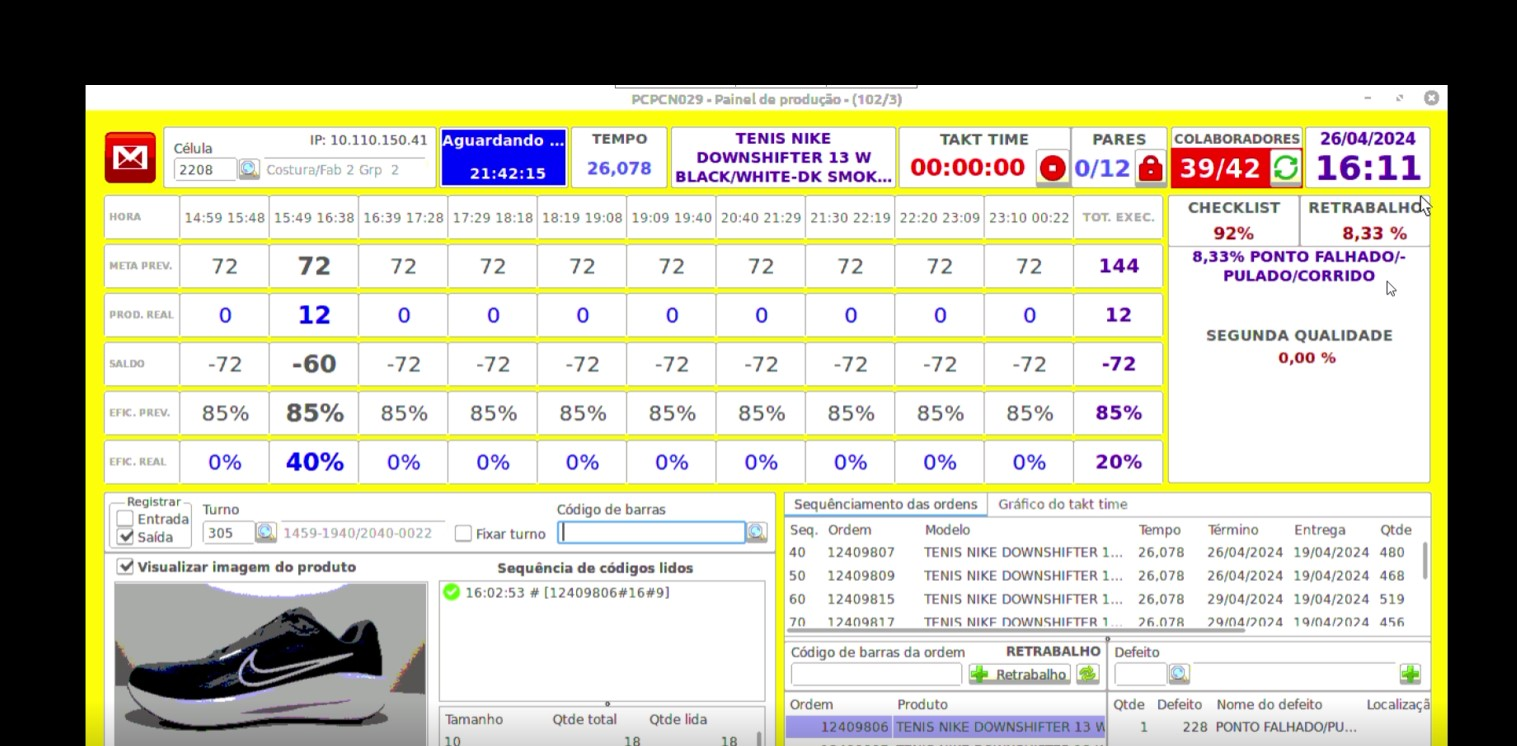takt_time: (904, 130, 1038, 186)
